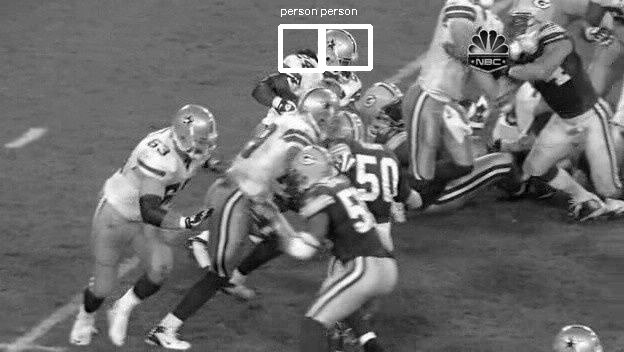person: (324, 29, 360, 75), (323, 29, 359, 75), (325, 29, 361, 75), (324, 28, 360, 74), (324, 30, 360, 76)
target_negative: (354, 22, 579, 350), (141, 152, 383, 287), (277, 295, 467, 330), (288, 322, 495, 342), (600, 156, 612, 248), (262, 103, 265, 155)
